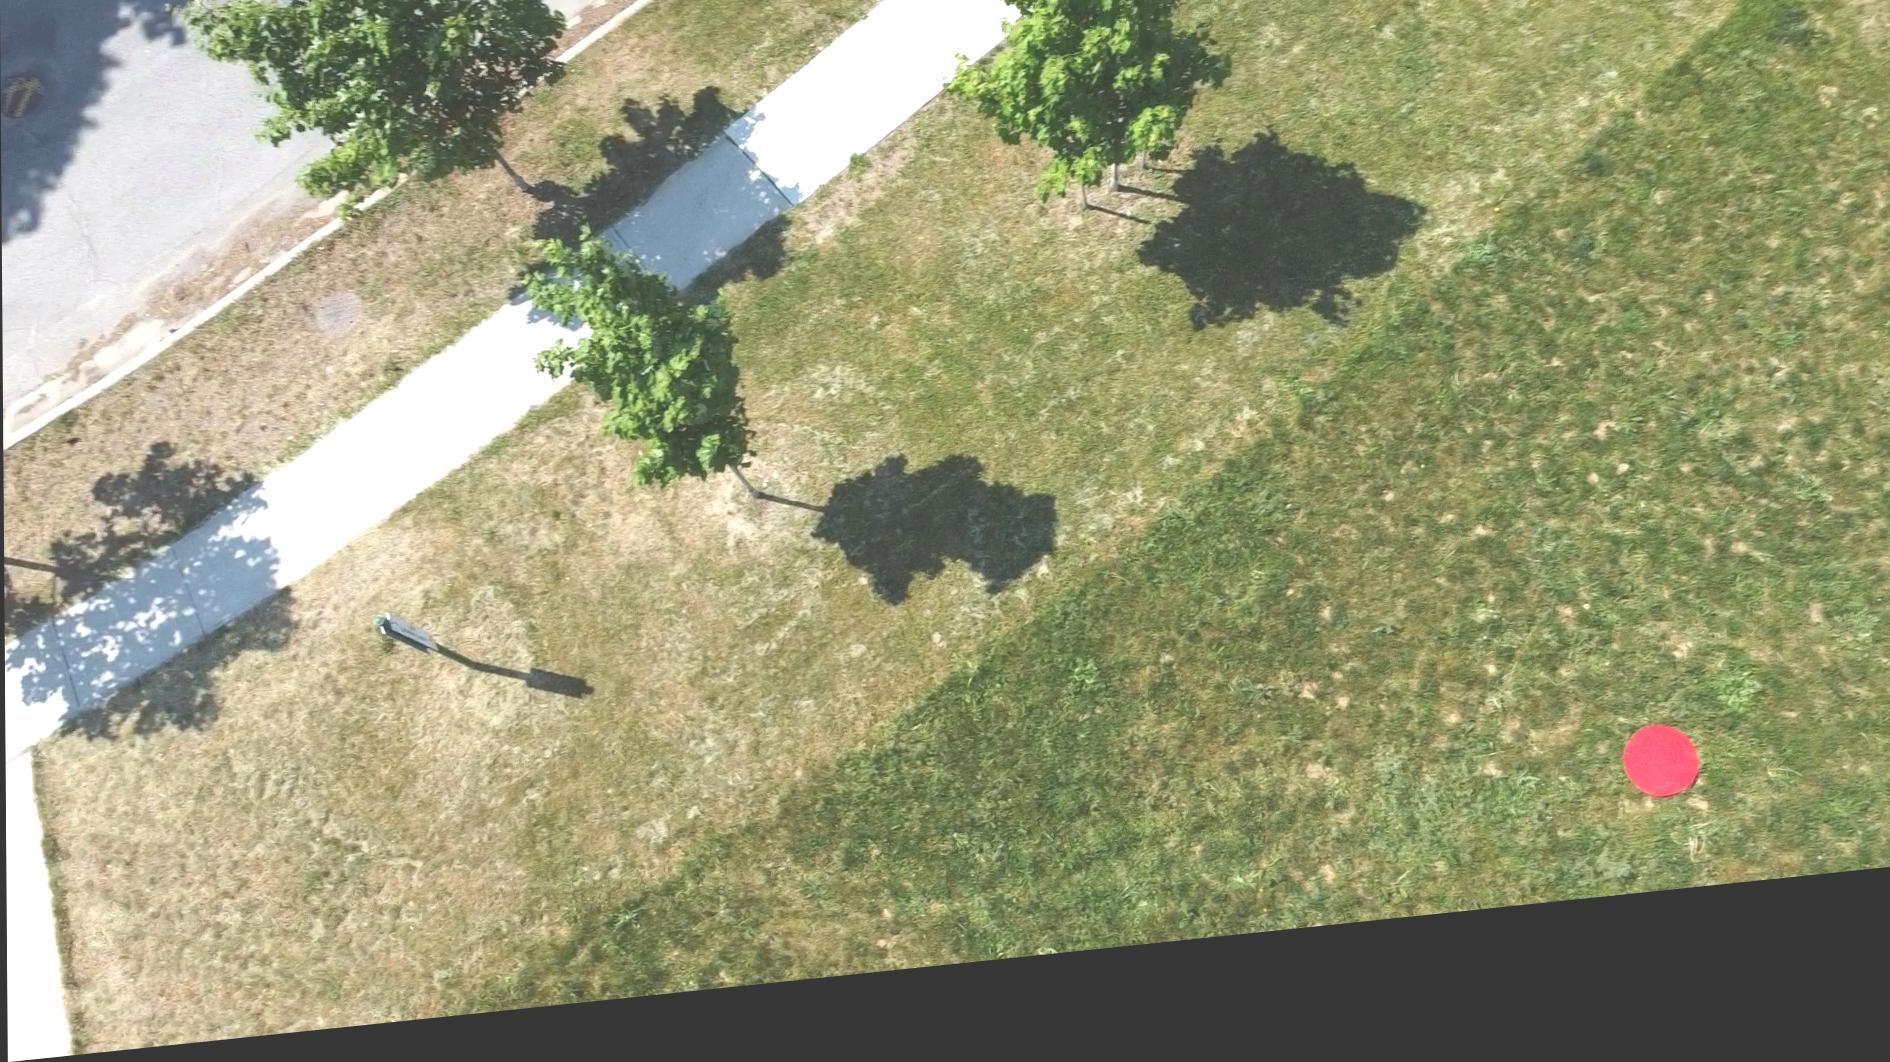Red: (1616, 753, 1699, 841)
